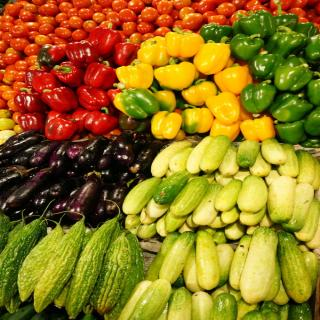Bell pepper: (14, 1, 320, 148)
Cucumber: (123, 139, 319, 319), (239, 223, 299, 307)
